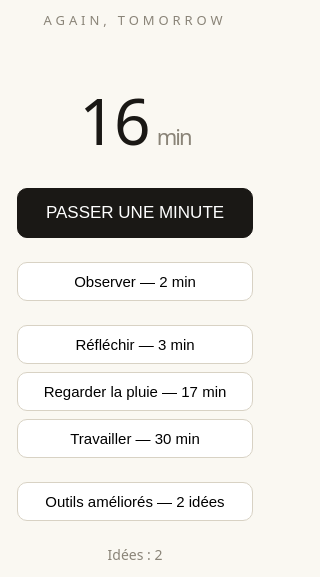
Test: first screen › buying the upgrade shows faster work in UI
Step 1. Click the button "Outils améliorés — 2 idées" → (135, 501), box [17,482,253,520]
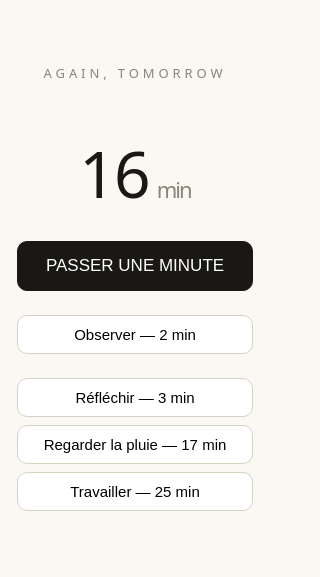
expect the button "Travailler — 25 min" is shown: met, box [17,472,253,510]
